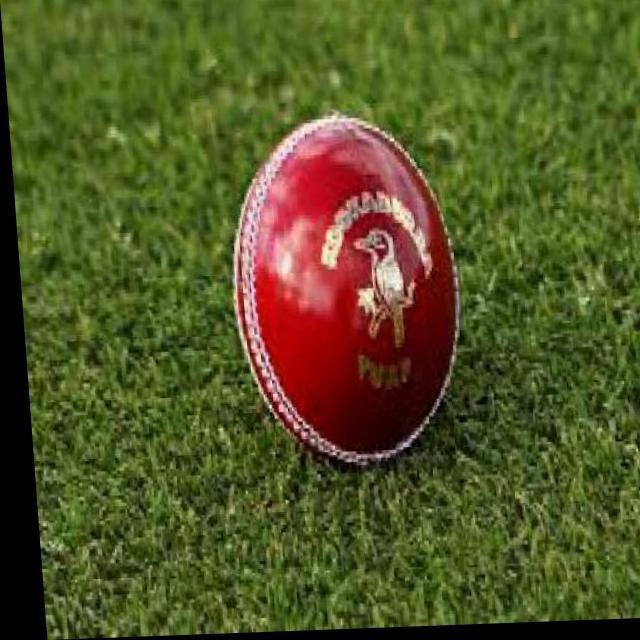-: (216, 129, 466, 464)
